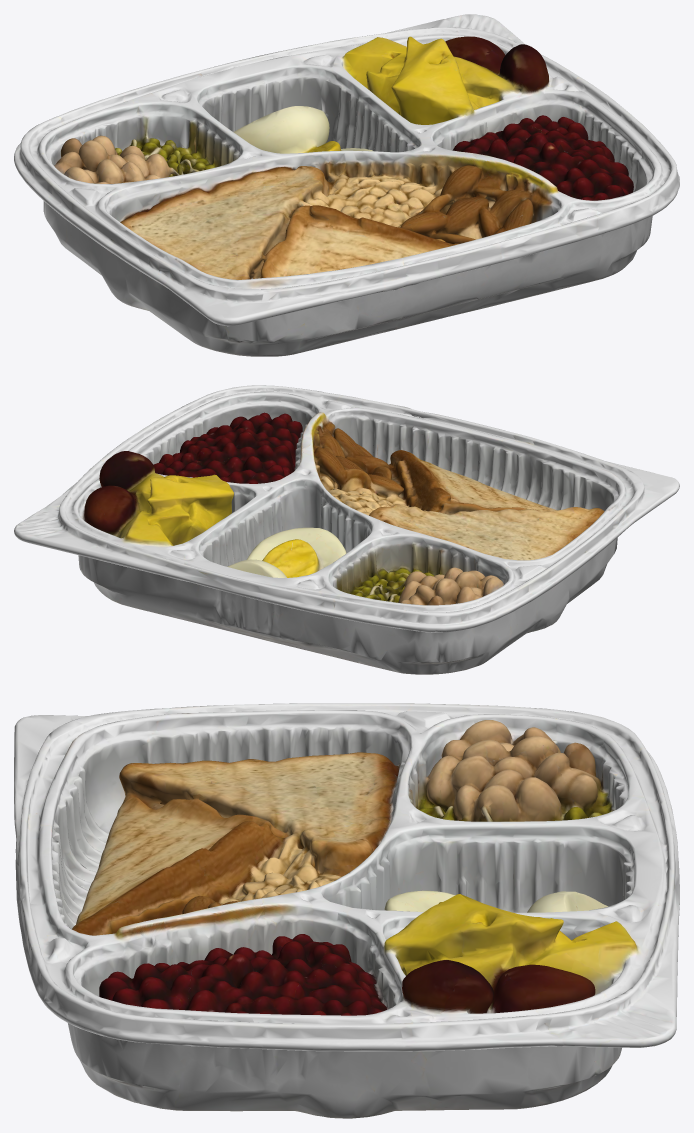
File: Statndard_non_veg_sandwhich.glb
3 views of the same model, one above another, from view 1: azimuth 30°, elevation 25°; view 2: azimuth 150°, elevation 25°; view 3: azimuth 270°, elevation 25° (orthographic). The views are drawn at different scales.
Bounding box in the file's own units: 1.9 × 0.4163 × 1.61.
Materials: 1 (1 with a texture image).
